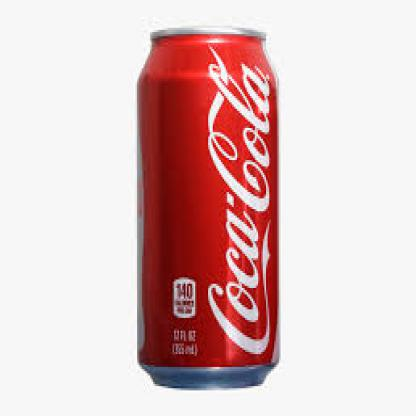METAL: (135, 26, 279, 386)
